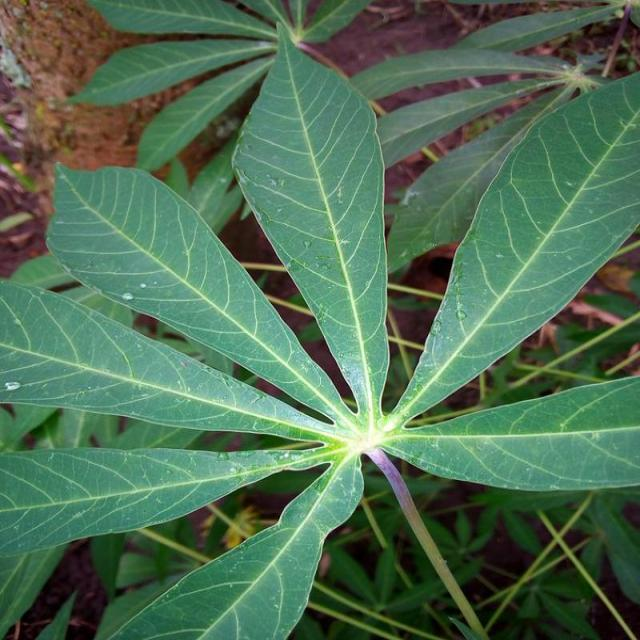cassava leaf: (1, 26, 638, 636), (385, 68, 639, 429), (43, 160, 355, 426), (230, 21, 390, 420)
